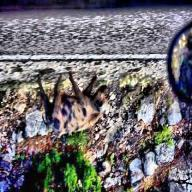boar: (33, 54, 120, 152)
